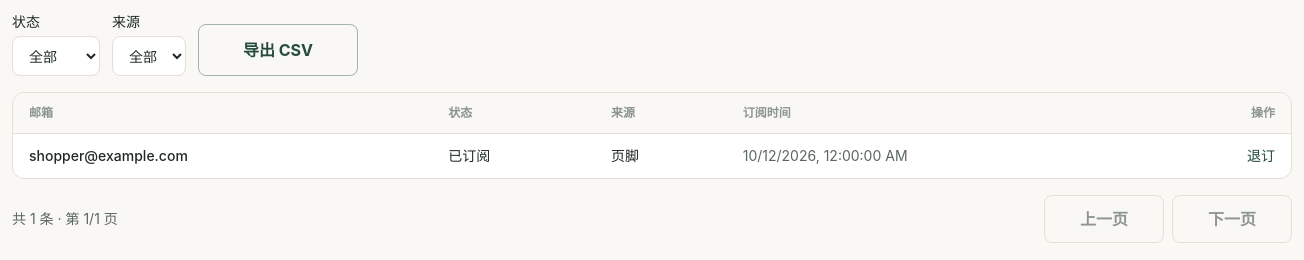
Test case: SubscribersTable › lists subscribers and lets a writer unsubscribe one
The width and height of the screenshot is (1304, 260).
Expected: the text "shopper@example.com" is shown, [13, 134, 432, 178]
Step 1. Click the button with aria-label "退订 shopper@example.com" → (1261, 156), box [1247, 146, 1275, 166]
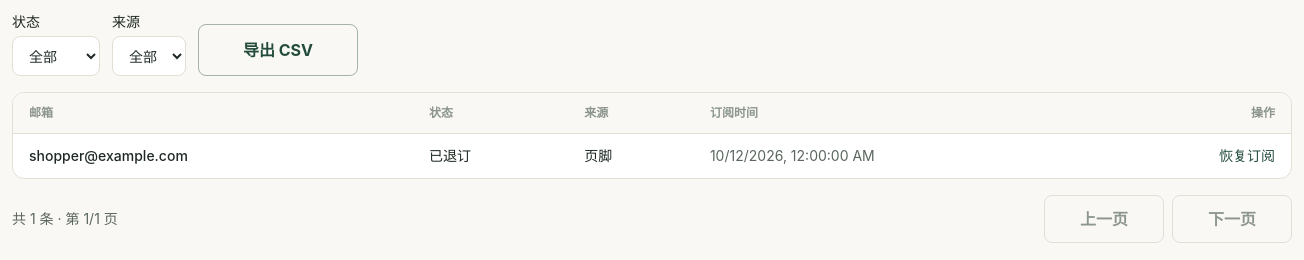
Expected: the text "shopper@example.com" is shown, [29, 147, 188, 164]
Expected: the text "已退订" is shown, [413, 134, 568, 178]
